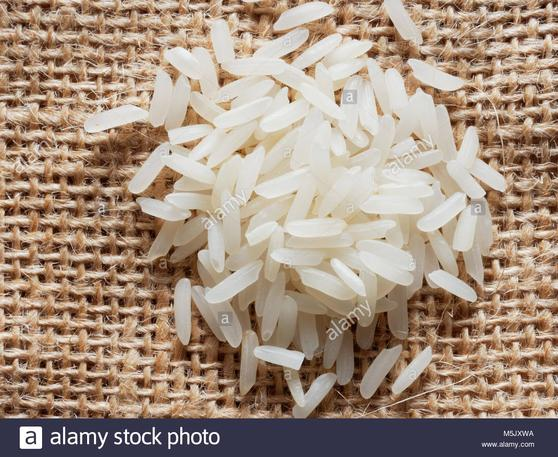rice: (104, 11, 495, 403)
